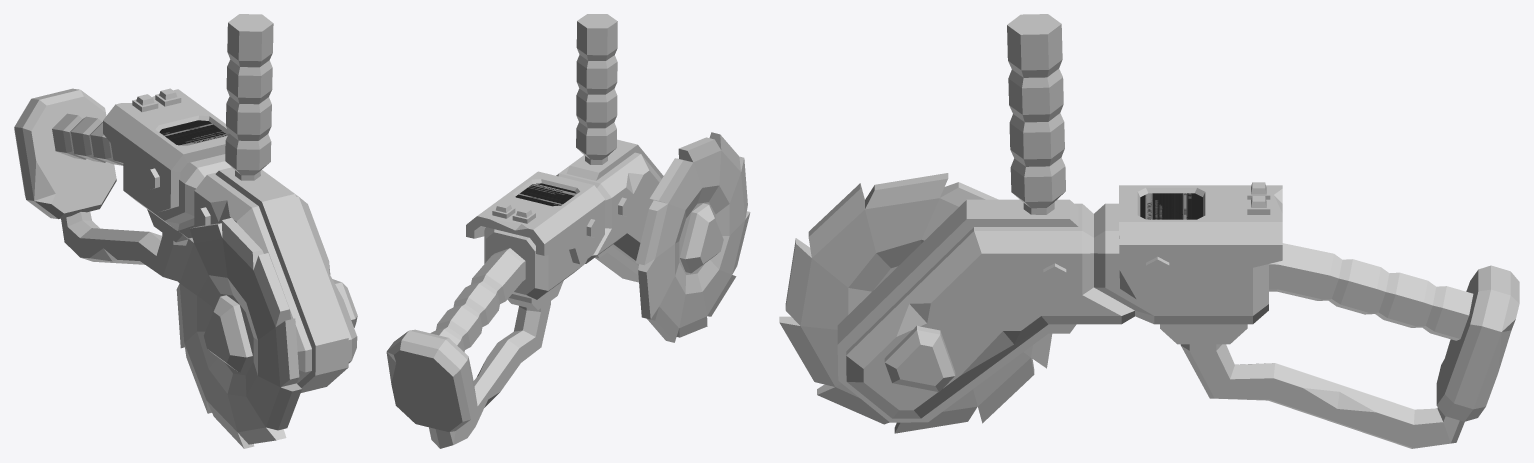
File: SM_Wep_Surgical_Tool_01.fbx
3 renders of one model, left to right at view 1: azimuth 30°, elevation 25°; view 2: azimuth 150°, elevation 25°; view 3: azimuth 270°, elevation 25°, orthographic. The views are drawn at different scales.
Visible parts, largest first — view 1: SM_Wep_Surgical_Tool_01, SM_Prop_Surgical_Tool_01_Blade_01, SM_Prop_Surgical_Tool_01_Screen_01; view 2: SM_Wep_Surgical_Tool_01, SM_Prop_Surgical_Tool_01_Blade_01, SM_Prop_Surgical_Tool_01_Screen_01; view 3: SM_Wep_Surgical_Tool_01, SM_Prop_Surgical_Tool_01_Blade_01, SM_Prop_Surgical_Tool_01_Screen_01.
Boxes of the visible parts, x1,y1,x2,y2 form: SM_Wep_Surgical_Tool_01: (14, 14, 357, 392); SM_Prop_Surgical_Tool_01_Blade_01: (174, 217, 301, 448); SM_Prop_Surgical_Tool_01_Screen_01: (159, 120, 227, 145); SM_Wep_Surgical_Tool_01: (386, 14, 723, 448); SM_Prop_Surgical_Tool_01_Blade_01: (635, 132, 750, 342); SM_Prop_Surgical_Tool_01_Screen_01: (515, 183, 576, 206); SM_Wep_Surgical_Tool_01: (837, 14, 1519, 448); SM_Prop_Surgical_Tool_01_Blade_01: (779, 173, 1052, 433); SM_Prop_Surgical_Tool_01_Screen_01: (1140, 193, 1202, 219).
Bounding box in the file's own units: 15.26 × 41.13 × 62.46.
